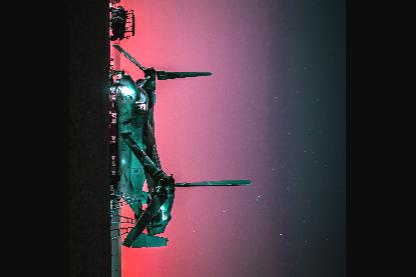Tornado: (110, 42, 251, 246)
